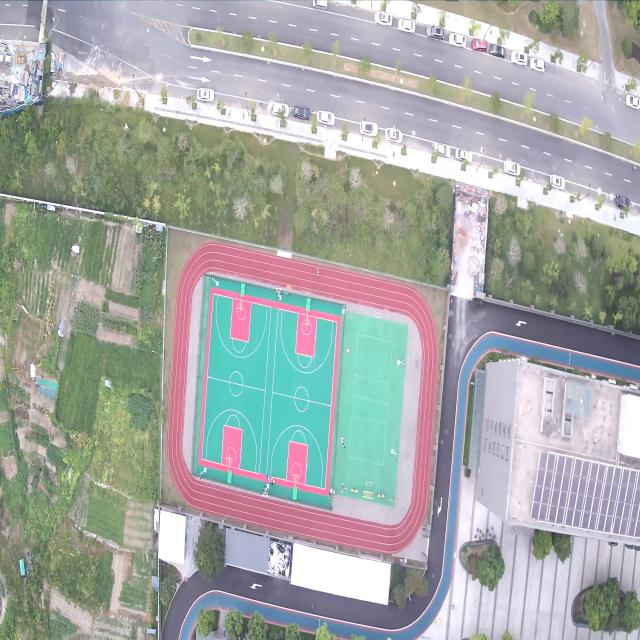drone: (346, 311, 356, 322)
